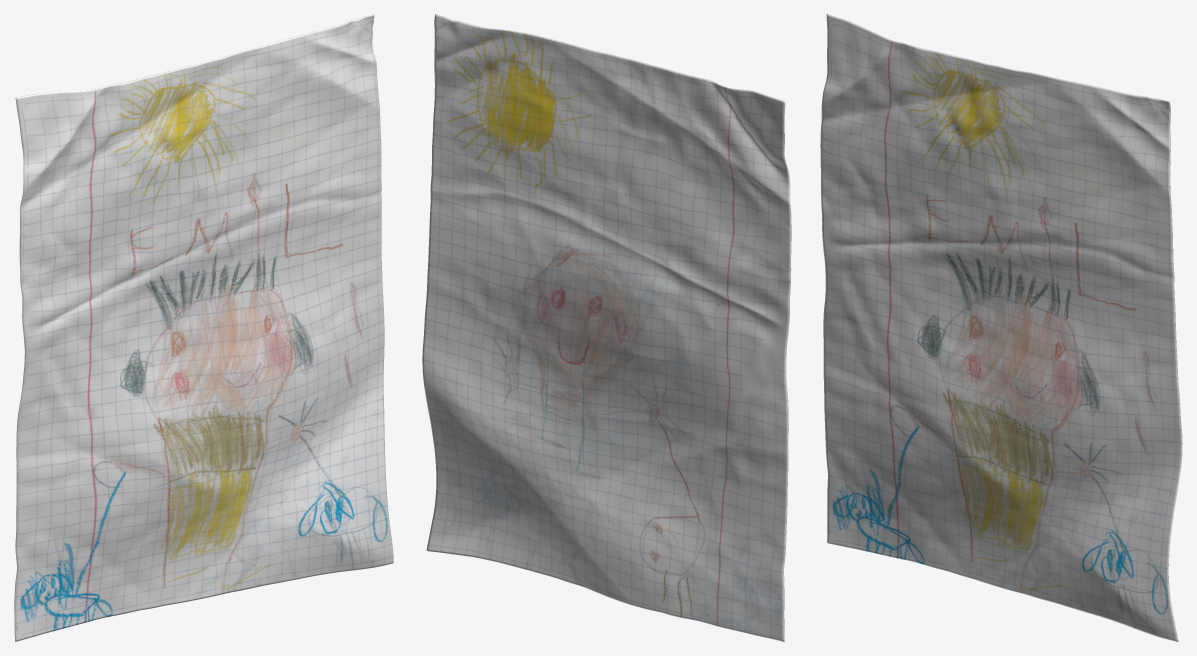
File: dibujo.glb
The picture shows the model from 3 angles, left to right: view 1: azimuth 30°, elevation 25°; view 2: azimuth 150°, elevation 25°; view 3: azimuth 330°, elevation 25°; orthographic projection. The views are drawn at different scales.
Parts seen in each view (by area): view 1: Cube_1; view 2: Cube_1; view 3: Cube_1.
Part boxes in pixels (x1,y1,x2,y2): Cube_1: (14, 14, 393, 641); Cube_1: (422, 14, 791, 641); Cube_1: (820, 14, 1182, 641).
Bounding box in the file's own units: 2.46 × 3.49 × 0.1736.
Materials: 1 (1 with a texture image).
